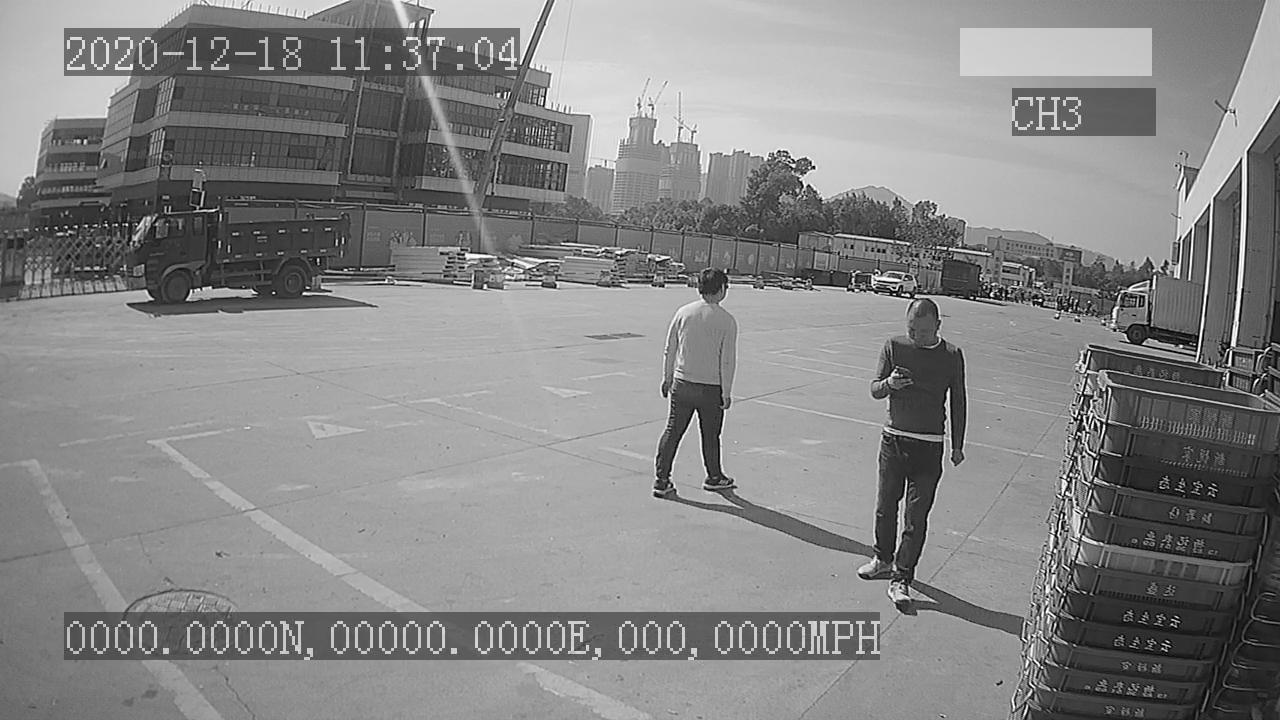person: (844, 293, 970, 601), (648, 262, 748, 507)
